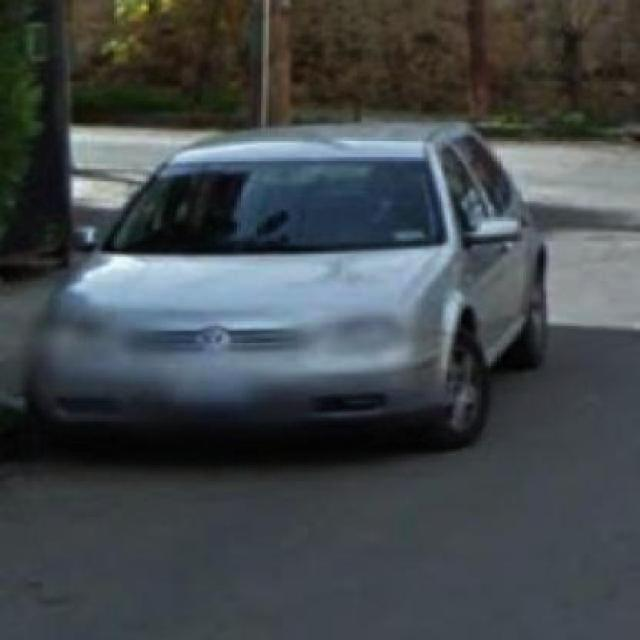car: (43, 112, 548, 450)
